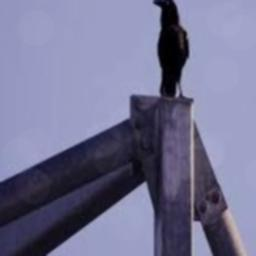Crow: (151, 0, 189, 98)
